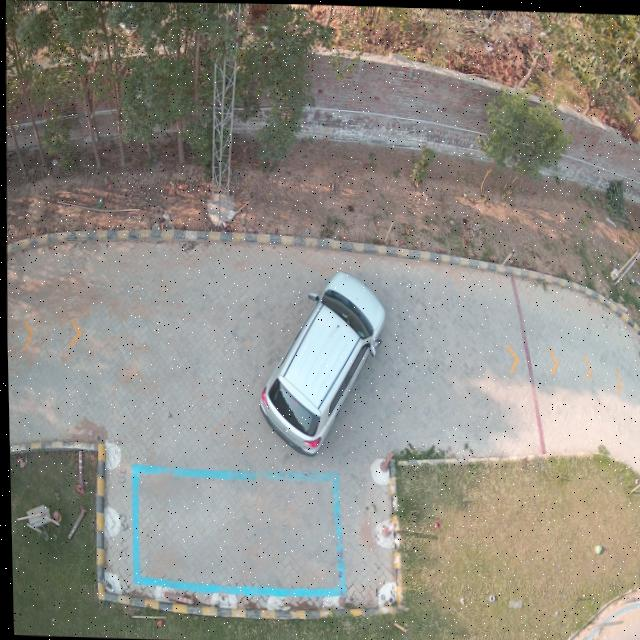car: (256, 268, 384, 458)
